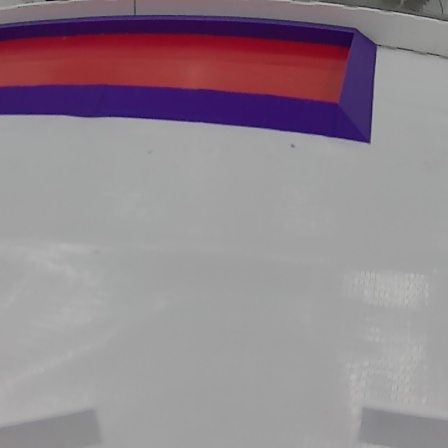red_aim: (0, 19, 378, 147)
